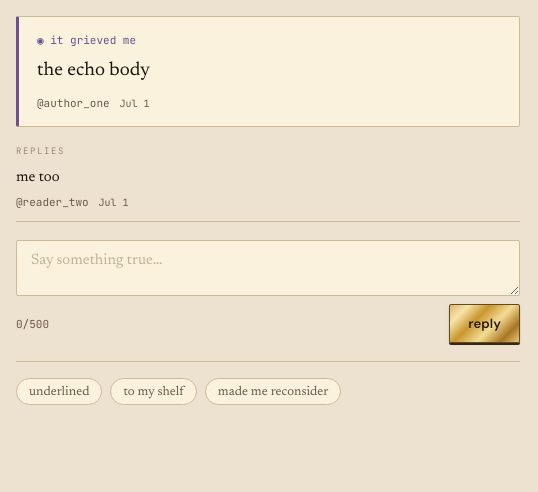
EchoThread [F3.4 / B3.4] › posts a reply and appends it to the thread
Expected: the text "me too" is shown, [16,170,60,184]
Type "adding this" into the text box named "your reply" at (268, 268), box [16,240,520,296]
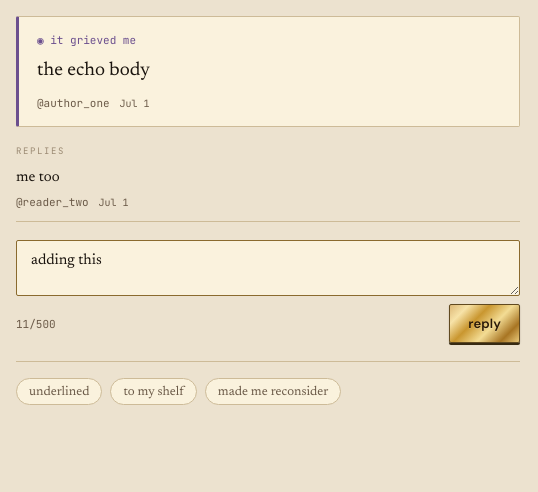
Click the button "reply" at (485, 324), box [449,304,520,343]
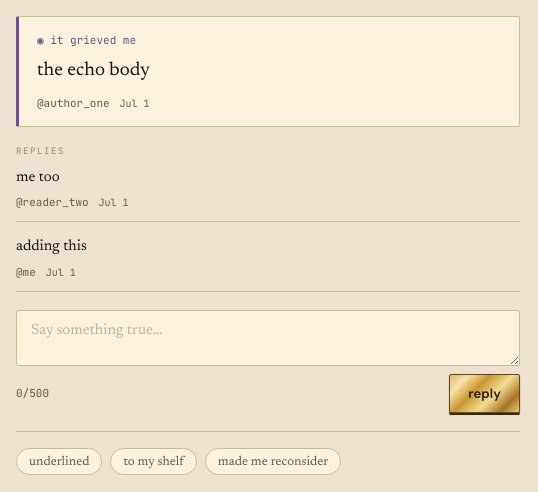
Expected: the text "adding this" is shown, [16,239,87,254]
